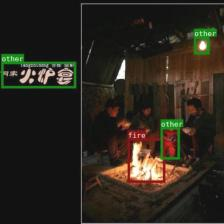fire: (128, 138, 164, 182)
